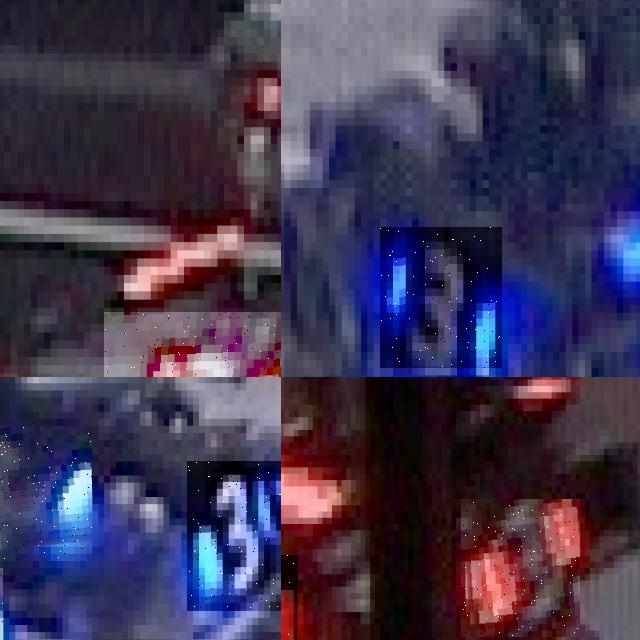B3: (380, 227, 502, 368), (187, 461, 281, 610), (0, 426, 92, 561)
R3: (461, 499, 580, 637), (104, 311, 281, 377)
